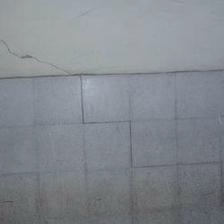crack: (1, 38, 73, 75), (82, 63, 124, 74)
